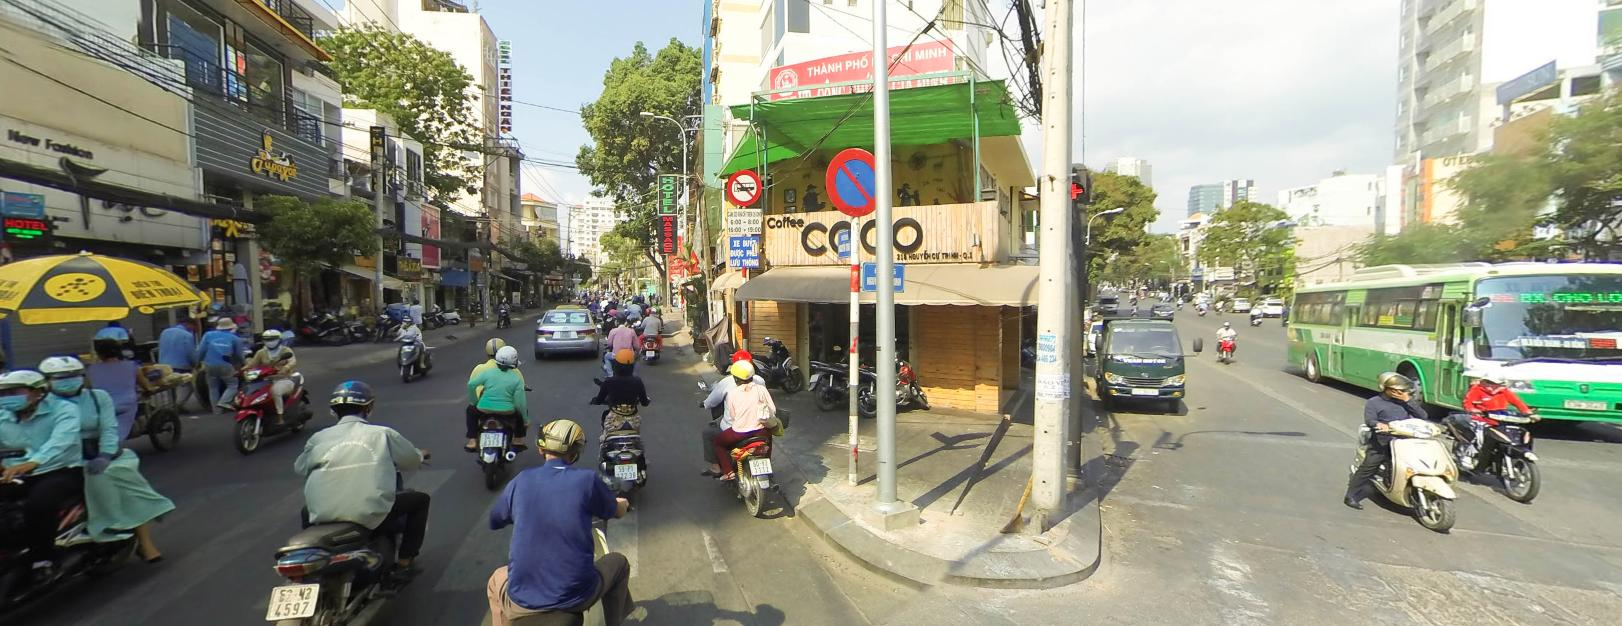Cam con lai: (727, 168, 761, 204)
Cam dung va do: (827, 147, 885, 215)
